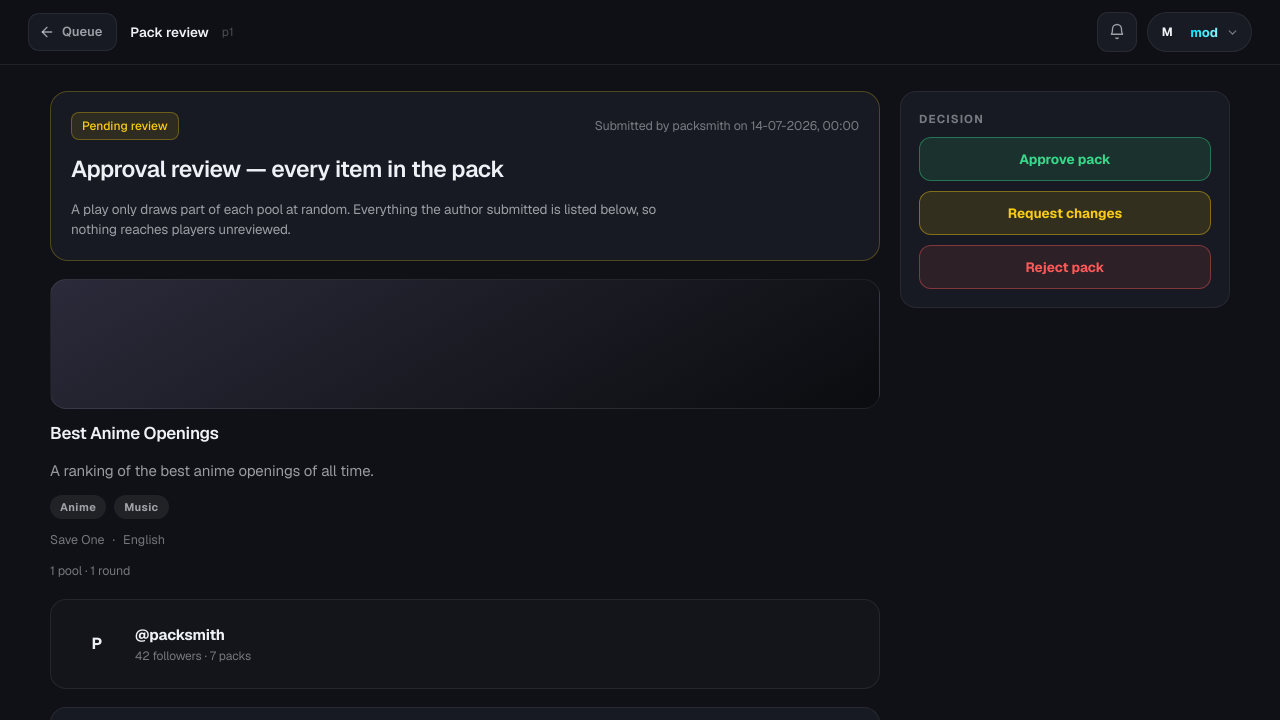
Test: PackReviewScreen › will not submit a rejection without a reason
Expected: the heading "Approval review — every item in the pack" is shown, [71,154,504,184]
Click the button "Reject pack" at (1065, 267), box [919,245,1211,289]
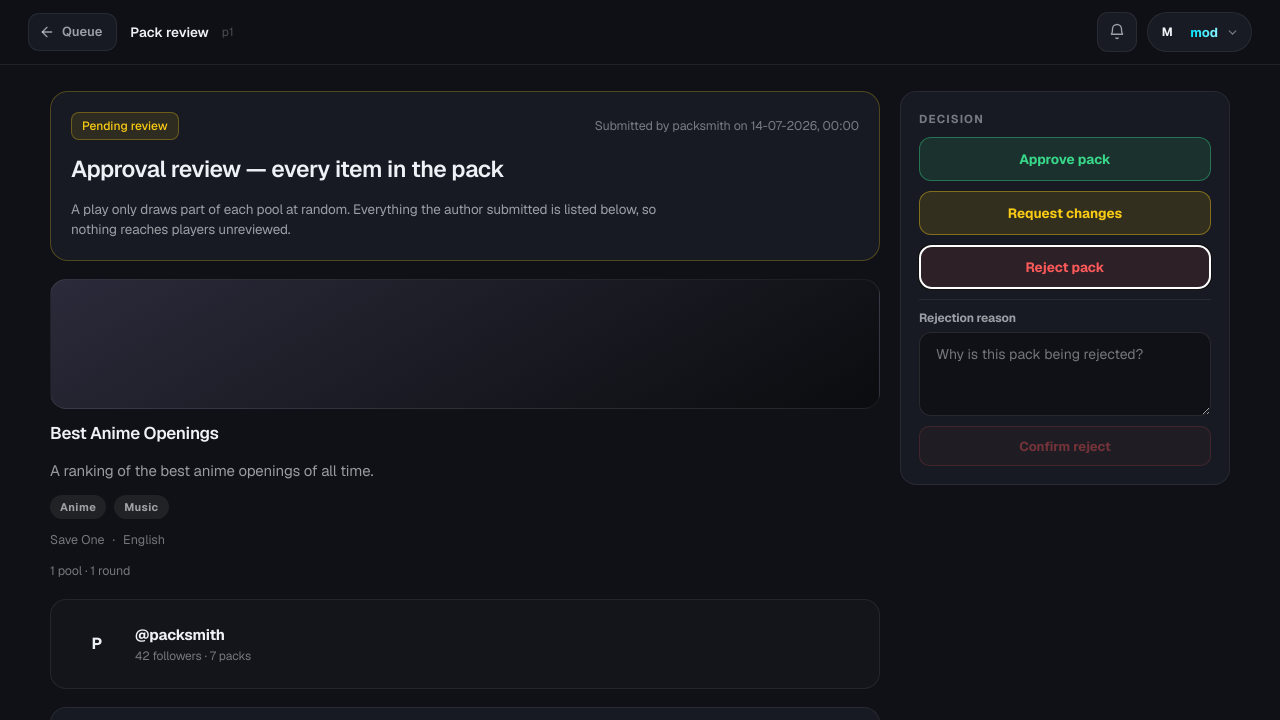
Now the button "Confirm reject" is disabled, box [919,426,1211,466]
